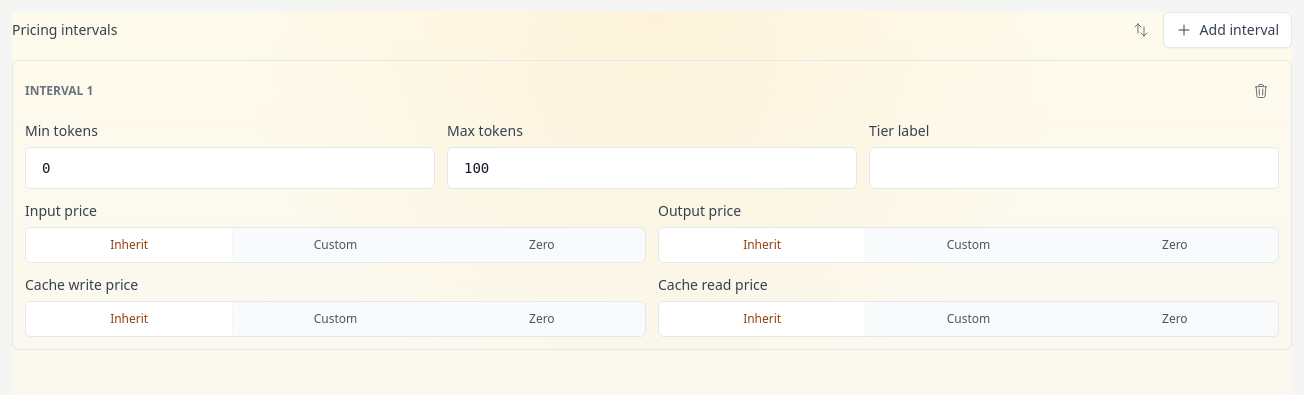
Test: PricingIntervalsEditor › rejects invalid interval bounds for min-tokens-0
This screenshot has width=1304, height=395.
Replace the text in the number field with test id "min-tokens-0" with "-1" at (230, 168), box left=25, top=147, right=435, bottom=189
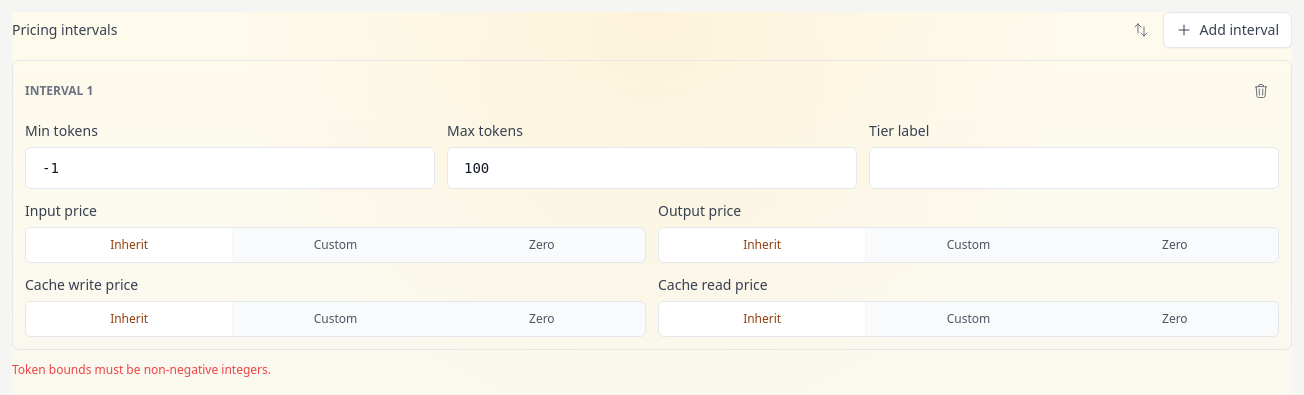
Result: the message "Token bounds must be non-negative integers." is shown at left=12, top=361, right=271, bottom=378
